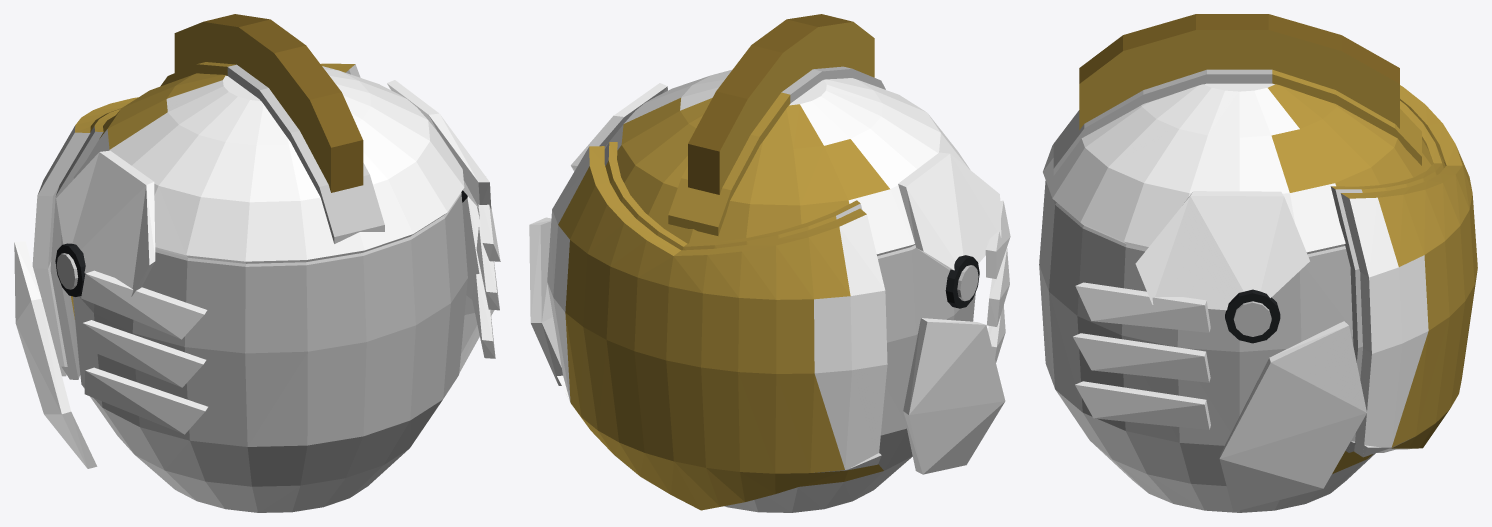
Rendered from person_hat_cataphract_helm_prestige.obj.
3 views of the same model, side by side, from view 1: azimuth 30°, elevation 25°; view 2: azimuth 150°, elevation 25°; view 3: azimuth 270°, elevation 25° (orthographic). The views are drawn at different scales.
Visible parts, largest first — view 1: person_hat_cataphract_helm_prestige, person_hat_cataphract_helm_prestige_addons; view 2: person_hat_cataphract_helm_prestige, person_hat_cataphract_helm_prestige_addons; view 3: person_hat_cataphract_helm_prestige, person_hat_cataphract_helm_prestige_addons.
Boxes of the visible parts, <box> form: person_hat_cataphract_helm_prestige: <box>14,62,500,512</box>; person_hat_cataphract_helm_prestige_addons: <box>174,14,363,192</box>; person_hat_cataphract_helm_prestige: <box>529,66,1010,512</box>; person_hat_cataphract_helm_prestige_addons: <box>688,14,874,194</box>; person_hat_cataphract_helm_prestige: <box>1039,69,1477,512</box>; person_hat_cataphract_helm_prestige_addons: <box>1079,14,1399,129</box>.
Size of the model in its own units: 0.7219 by 0.672 by 0.6017.
